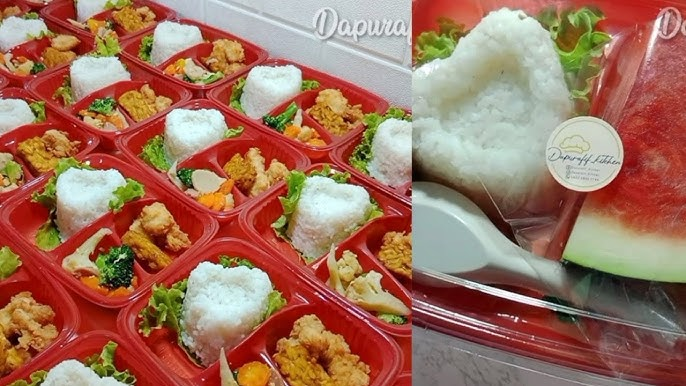buah_sayur_vitA: (628, 65, 684, 211), (187, 170, 223, 204), (77, 257, 122, 284), (279, 114, 304, 133)
daging: (287, 334, 351, 376), (136, 219, 181, 258), (227, 157, 276, 182), (310, 98, 353, 125)
makanan_berpati: (441, 66, 533, 146), (193, 269, 258, 324), (64, 175, 105, 209), (171, 116, 217, 143), (251, 71, 287, 99)
